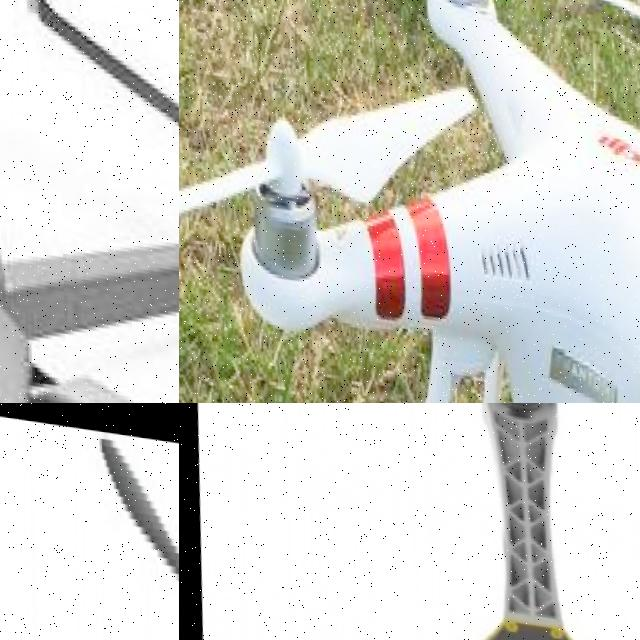0: (179, 0, 640, 403)
drone: (179, 403, 640, 640), (0, 0, 179, 403), (0, 403, 179, 640)
